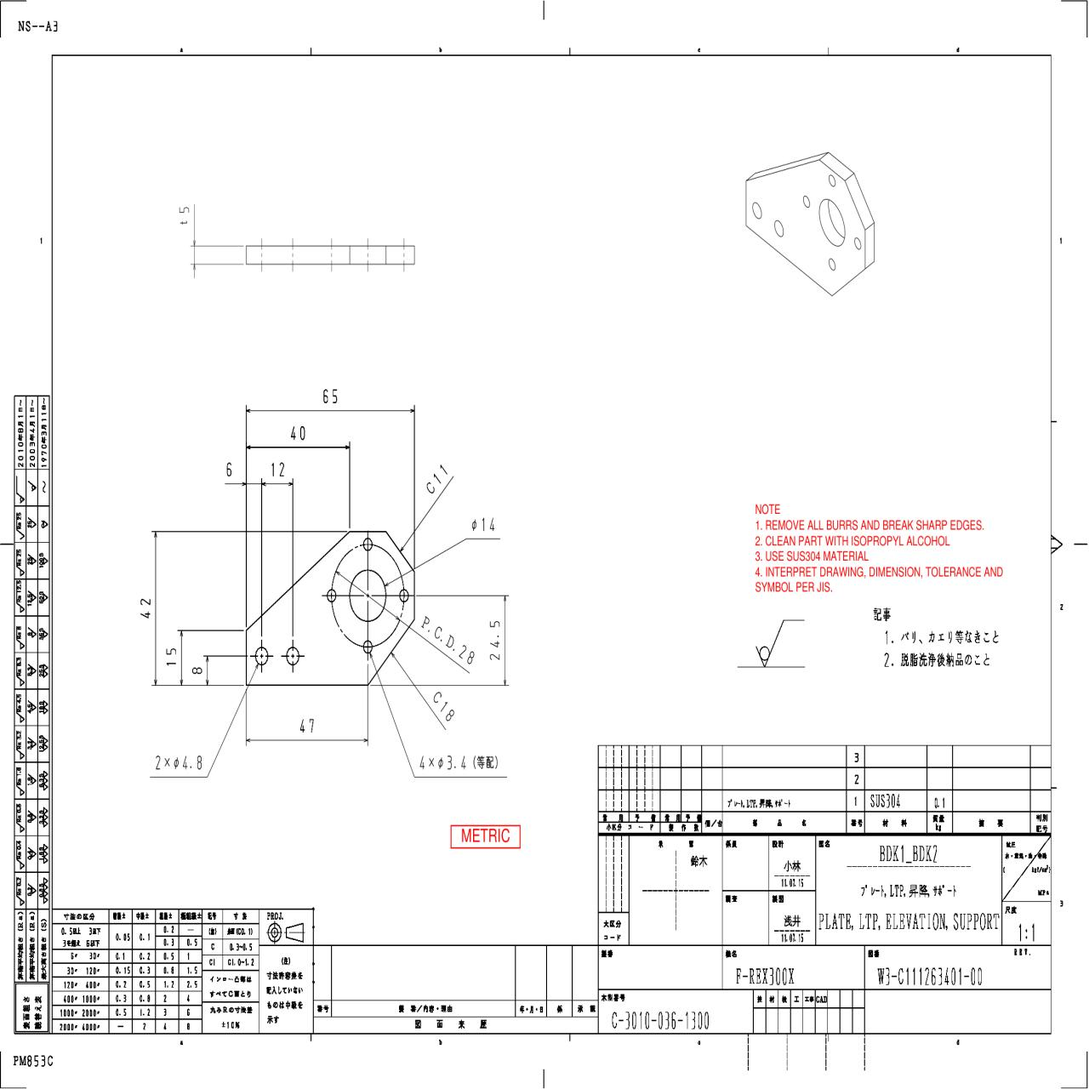basic_dimension: (489, 620, 501, 661), (322, 387, 341, 404), (270, 462, 285, 481), (139, 598, 151, 620), (290, 426, 307, 441), (298, 718, 314, 733), (166, 648, 177, 665), (225, 461, 232, 477), (191, 667, 202, 674)
dimension_chamfer_symbol: (424, 462, 448, 497), (430, 688, 446, 708)
dimension_diameter_symbol: (172, 755, 204, 770), (437, 756, 467, 771), (470, 517, 495, 534)
dimension_thickness_symbol: (179, 204, 189, 226)
